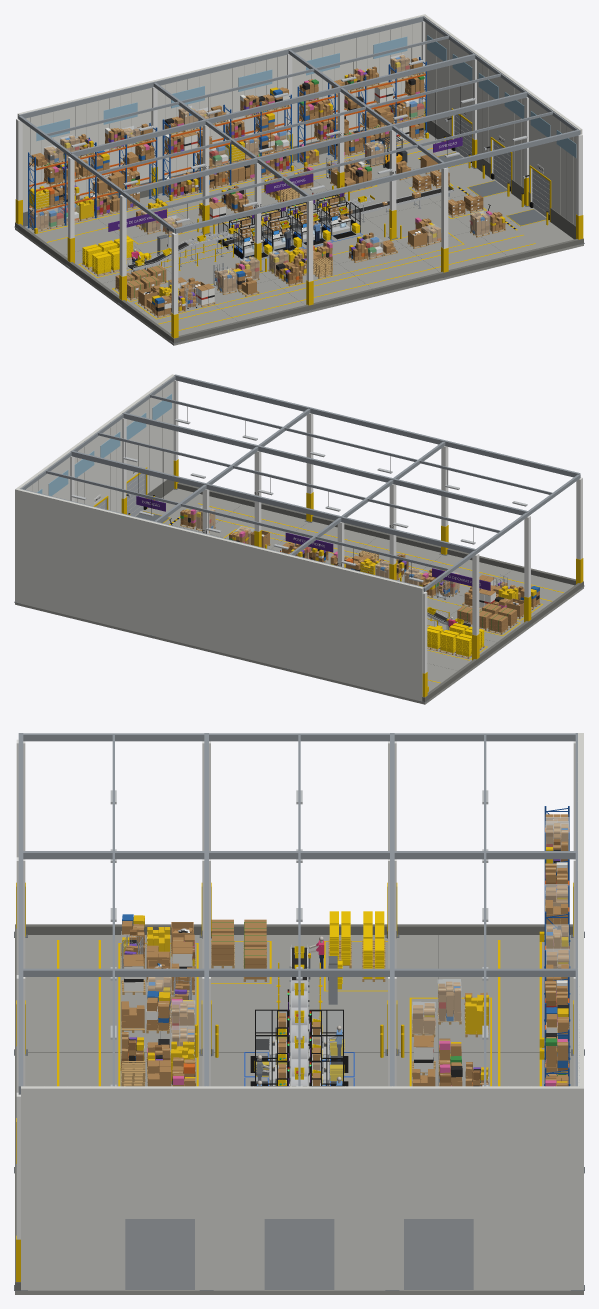
The model's file is layout-marketplace-mesa.glb.
The picture shows the model from 3 angles, top to bottom: view 1: azimuth 30°, elevation 25°; view 2: azimuth 150°, elevation 25°; view 3: azimuth 270°, elevation 25°; orthographic projection. The views are drawn at different scales.
Parts seen in each view (by area): view 1: Galpao_Piso, Porta_Paletes_com_Cargas, Galpao_Parede_Fundo, Galpao_Estrutura_Cobertura, Galpao_Parede_Docas, Armazenagem_Lateral_Cargas, Galpao_Pilares, Galpao_Mureta_Corte, Galpao_Sinalizacao_Piso, Galpao_Luminarias, Posto_2-04, Esteira_Saida_Expedicao (+8 smaller); view 2: Galpao_Parede_Fundo, Galpao_Estrutura_Cobertura, Galpao_Piso, Galpao_Parede_Docas, Galpao_Pilares, Armazenagem_Lateral_Cargas, Galpao_Mureta_Corte, Galpao_Luminarias, Galpao_Sinalizacao_Piso, Placa_ENVIO; view 3: Galpao_Parede_Docas, Galpao_Piso, Galpao_Estrutura_Cobertura, Armazenagem_Lateral_Cargas, Galpao_Pilares, Porta_Paletes_com_Cargas, Galpao_Mureta_Corte, Galpao_Parede_Fundo, Galpao_Sinalizacao_Piso, Transportador_Abastecimento_Postos, Posto_1-01, Posto_1-02 (+8 smaller).
Boxes of the visible parts, x1,y1,x2,y2 form: Galpao_Piso: (15,130,583,345); Porta_Paletes_com_Cargas: (27,54,428,233); Galpao_Parede_Fundo: (17,14,426,226); Galpao_Estrutura_Cobertura: (18,16,580,233); Galpao_Parede_Docas: (424,15,582,239); Armazenagem_Lateral_Cargas: (118,135,505,319); Galpao_Pilares: (14,21,584,343); Galpao_Mureta_Corte: (15,222,583,342); Galpao_Sinalizacao_Piso: (38,139,535,332); Galpao_Luminarias: (71,48,527,223); Posto_2-04: (322,197,362,241); Esteira_Saida_Expedicao: (223,185,453,246); Galpao_Parede_Fundo: (15,488,423,701); Galpao_Estrutura_Cobertura: (19,374,580,592); Galpao_Piso: (15,488,583,704); Galpao_Parede_Docas: (17,374,174,523); Galpao_Pilares: (14,380,584,702); Armazenagem_Lateral_Cargas: (180,506,542,620); Galpao_Mureta_Corte: (177,482,583,701); Galpao_Luminarias: (71,407,527,582); Galpao_Sinalizacao_Piso: (169,503,563,682); Placa_ENVIO: (432,568,490,590); Galpao_Parede_Docas: (21,1086,577,1290); Galpao_Piso: (15,935,583,1294); Galpao_Estrutura_Cobertura: (18,733,579,1094); Armazenagem_Lateral_Cargas: (118,914,491,1086); Galpao_Pilares: (14,739,584,1290); Porta_Paletes_com_Cargas: (539,806,570,1086); Galpao_Mureta_Corte: (15,924,572,1290); Galpao_Parede_Fundo: (578,733,583,1290); Galpao_Sinalizacao_Piso: (57,940,541,1086); Transportador_Abastecimento_Postos: (290,978,309,1086); Posto_1-01: (308,1009,354,1076); Posto_1-02: (309,1035,354,1086).
Size of the model in its own units: 2.03 by 0.5444 by 1.37.
